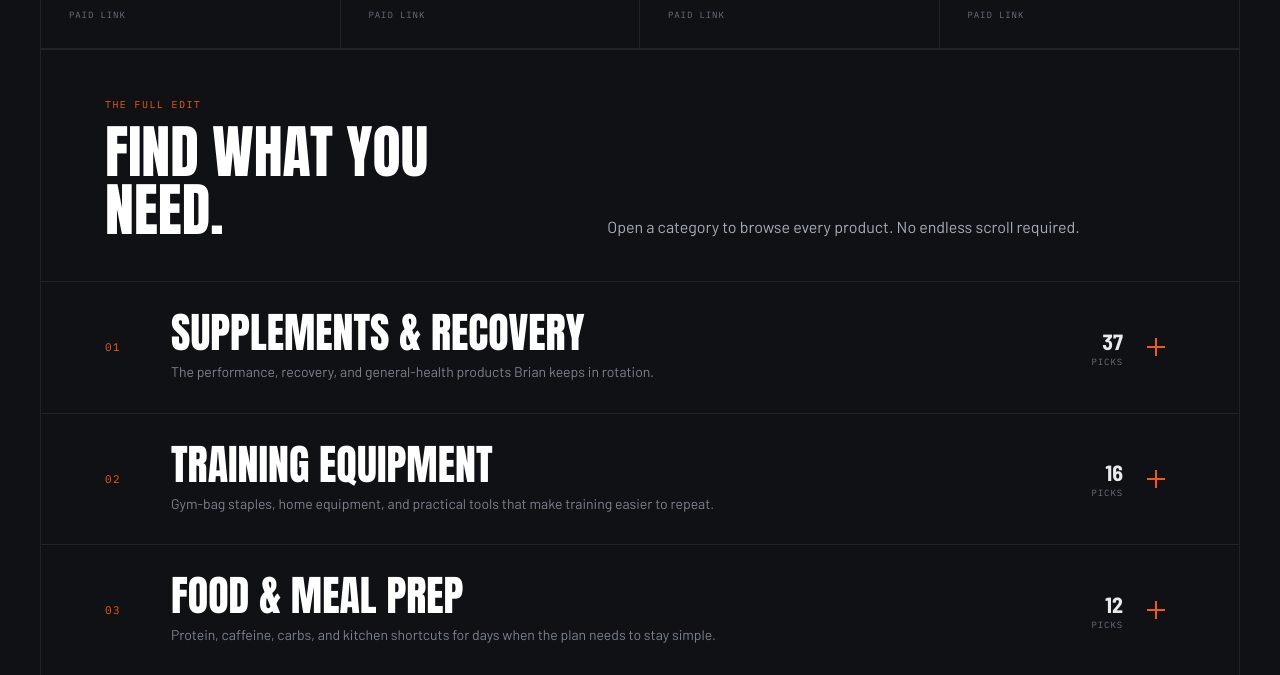
MOG LIFE LABS app › organizes the complete Amazon edit on The Stack
(page scrolled)
Click the heading "Supplements & Recovery" at (640, 347), box [41,282,1239,413]
(page scrolled)
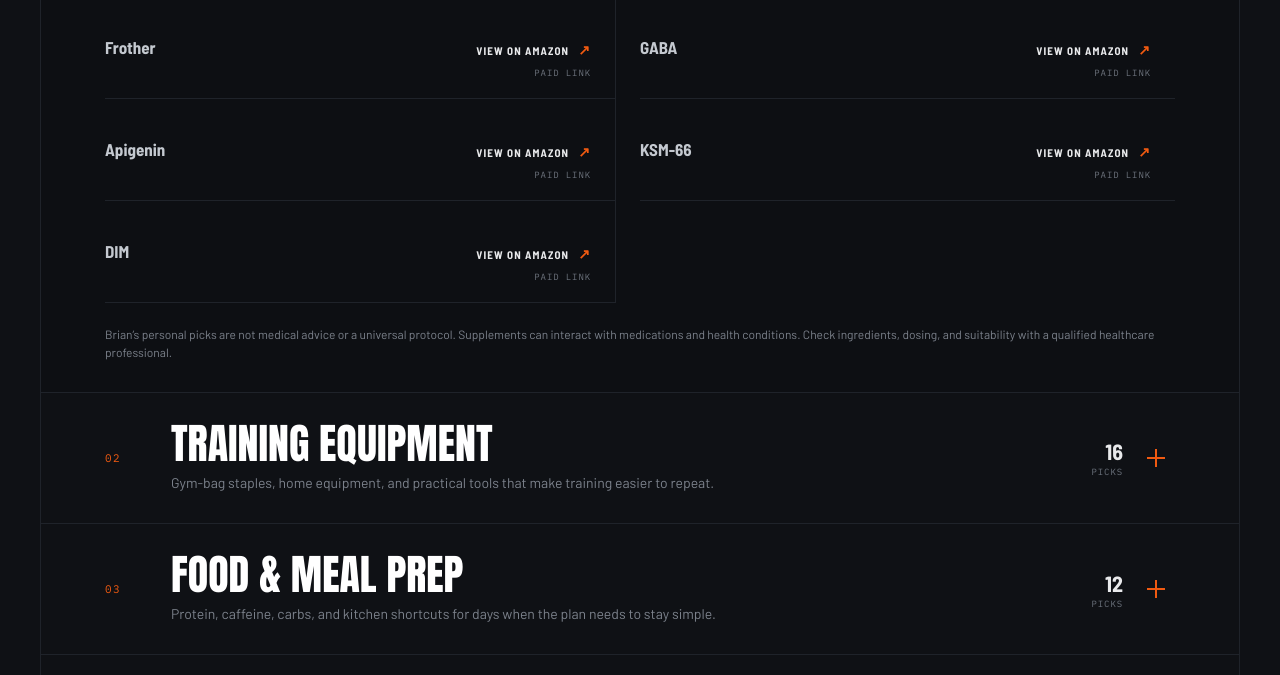
Expected: the text "not medical advice or a universal protocol" is shown, [105,327,1154,359]
